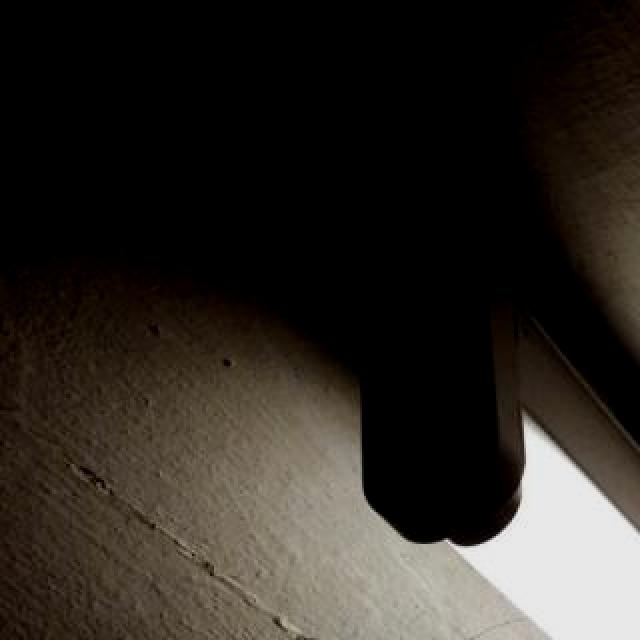fluorescent tube: (358, 354, 640, 640)
